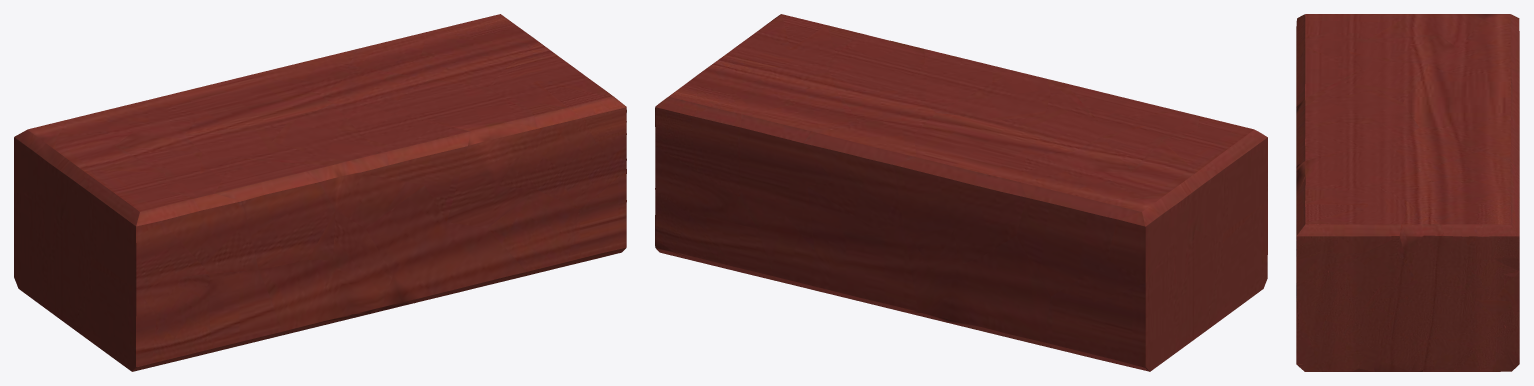
The model's file is block_waxed.glb.
The picture shows the model from 3 angles, left to right: view 1: azimuth 30°, elevation 25°; view 2: azimuth 150°, elevation 25°; view 3: azimuth 270°, elevation 25°; orthographic projection. The views are drawn at different scales.
Size of the model in its own units: 1.9 by 0.5858 by 0.8237.
1 material, 1 textured.
